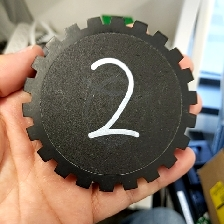gear: (20, 14, 199, 194)
